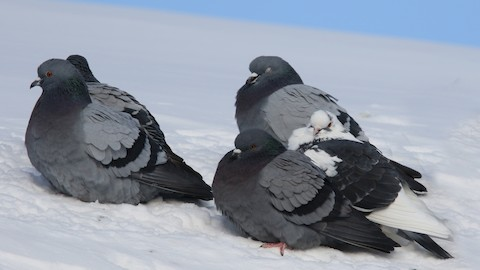pigeon: (21, 54, 217, 211), (230, 53, 434, 201), (207, 128, 405, 260)
